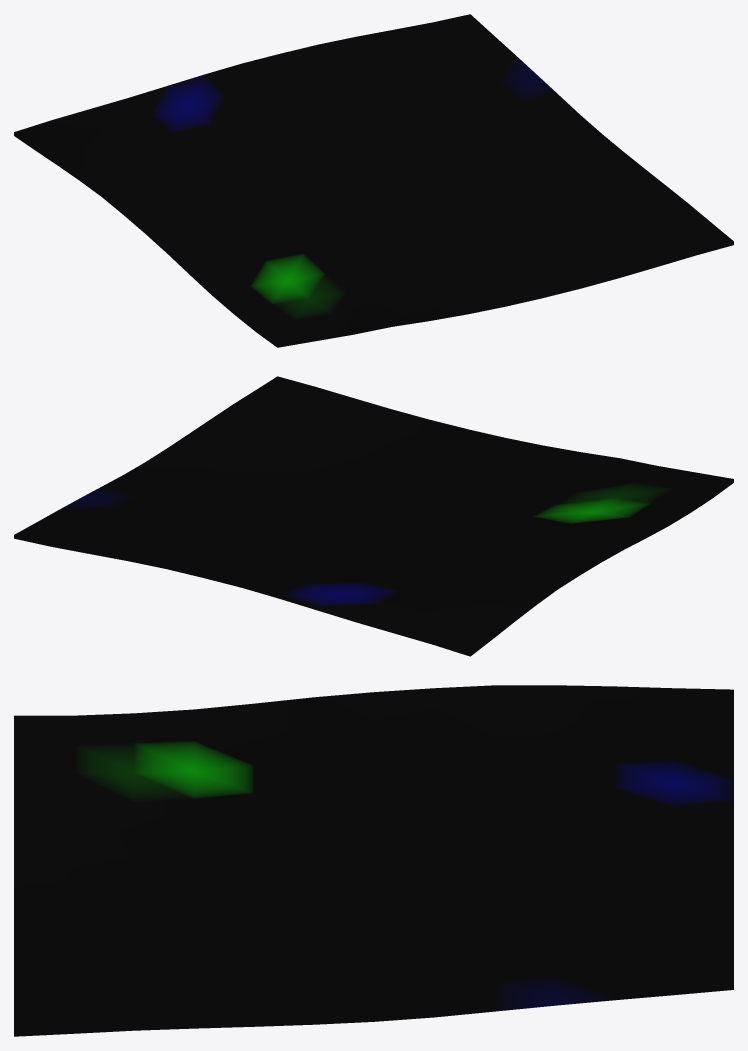
The model's file is coast_21_3.glb.
3 views of the same model, one above another, from view 1: azimuth 30°, elevation 25°; view 2: azimuth 150°, elevation 25°; view 3: azimuth 270°, elevation 25° (orthographic). The views are drawn at different scales.
Visible parts, largest first — view 1: terrain; view 2: terrain; view 3: terrain.
Boxes of the visible parts, box(x1,y1,x2,y2) form: terrain: box(14, 14, 733, 347); terrain: box(14, 376, 733, 656); terrain: box(14, 685, 733, 1036).
Bounding box in the file's own units: 192 × 20.64 × 192.
